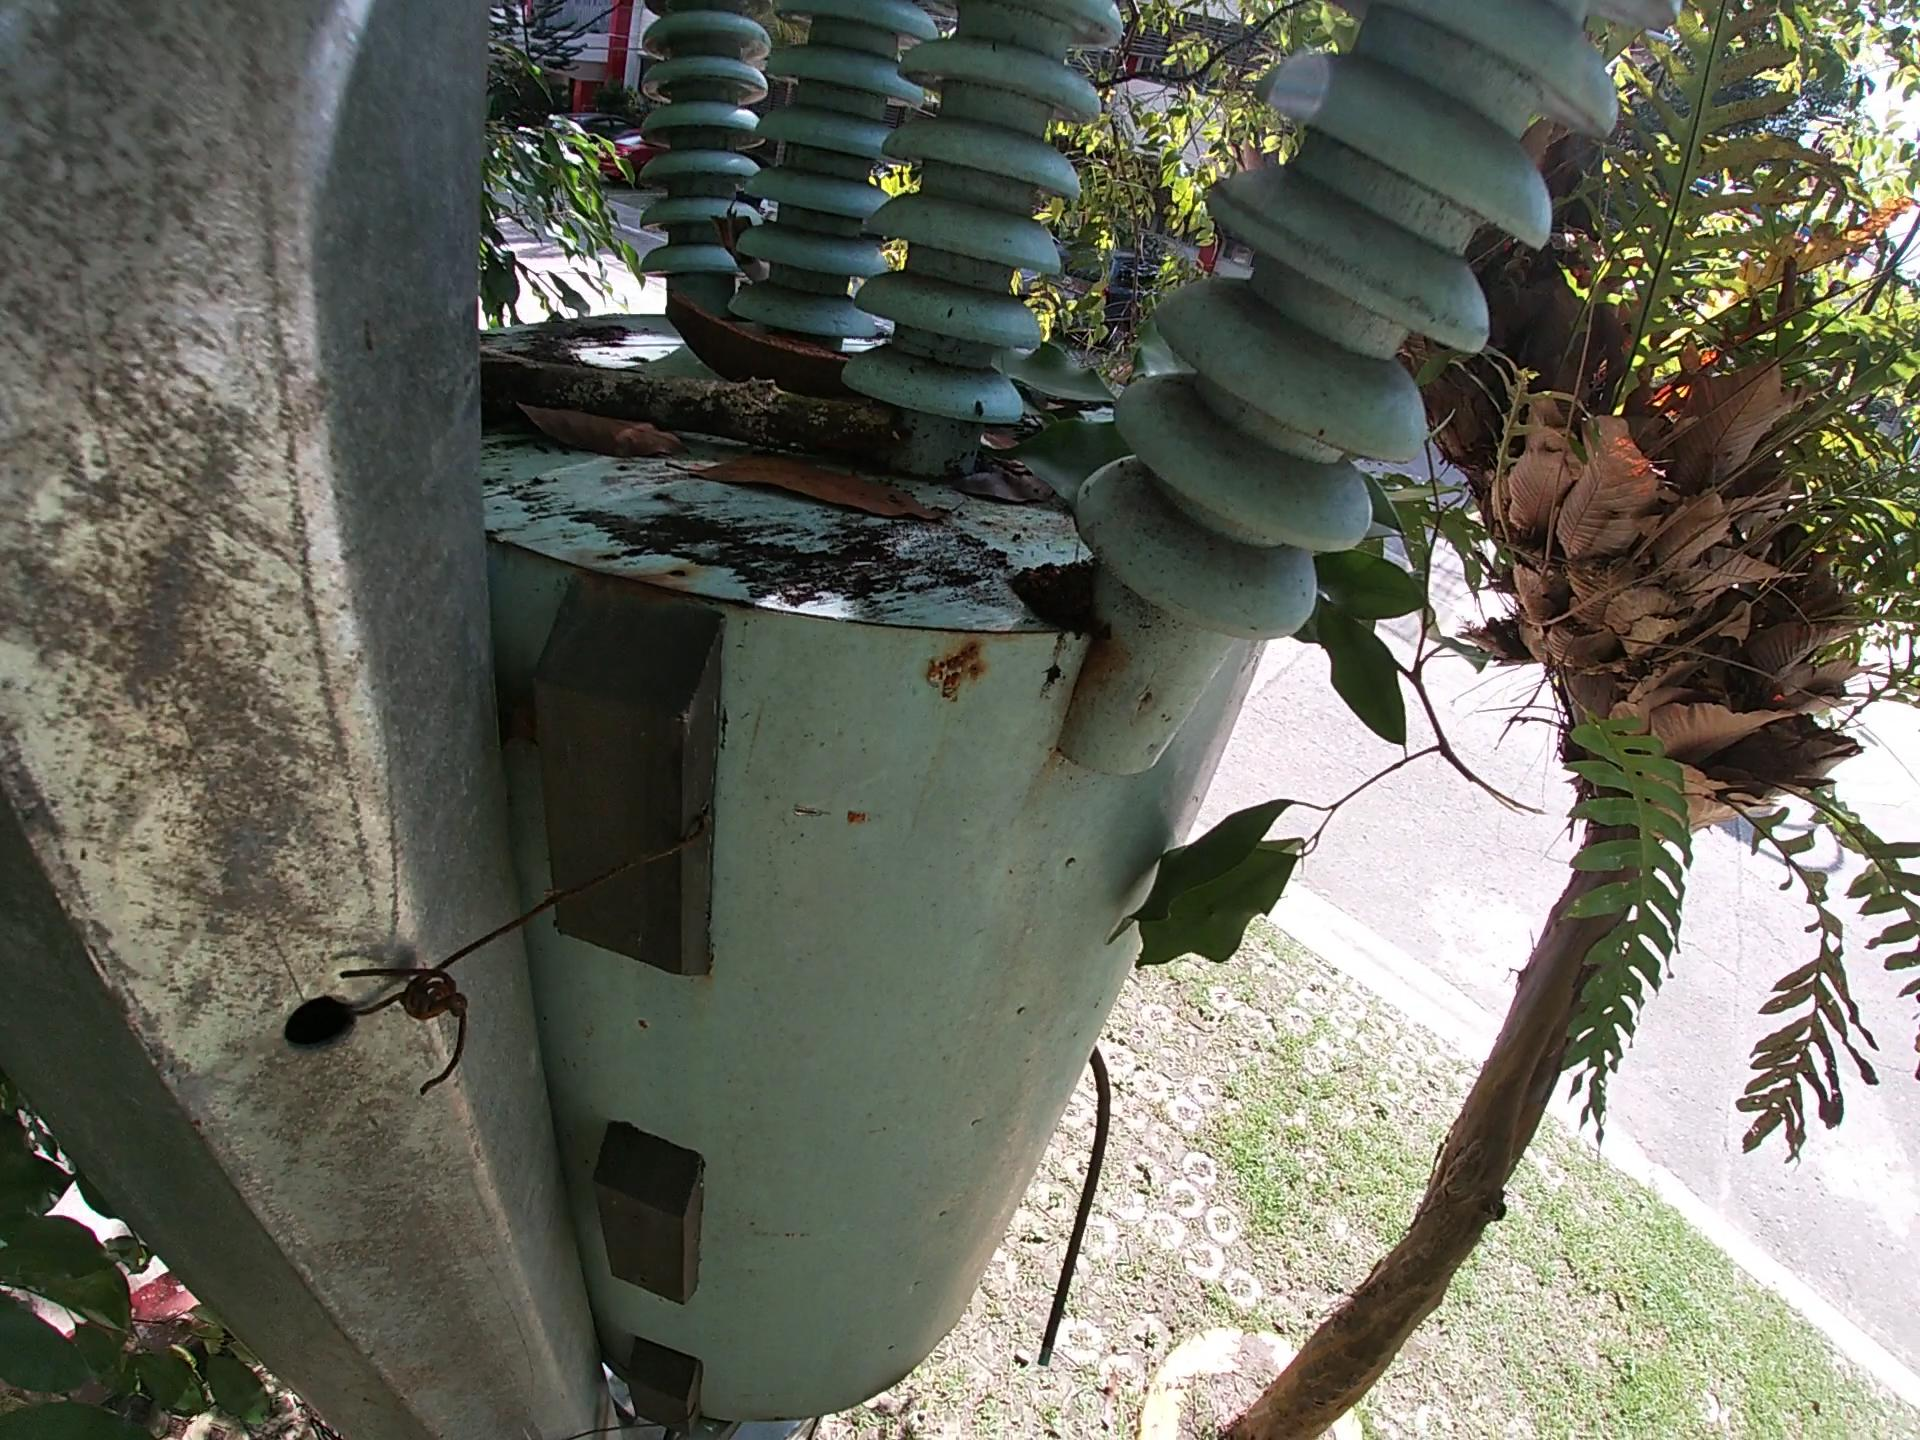branch with leaves: (1101, 392, 1551, 1054)
leaf: (505, 401, 949, 548)
mahogany fruit: (653, 287, 916, 387)
tree branch: (458, 325, 942, 446)
